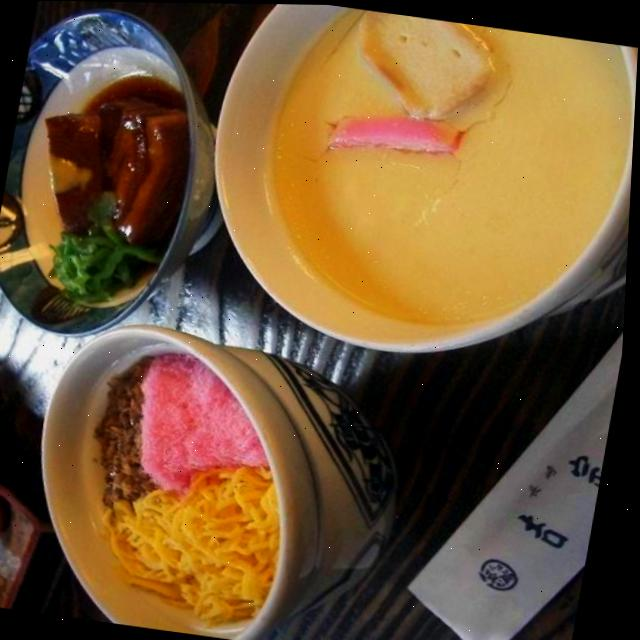鸡蛋料理: (146, 2, 640, 430)
